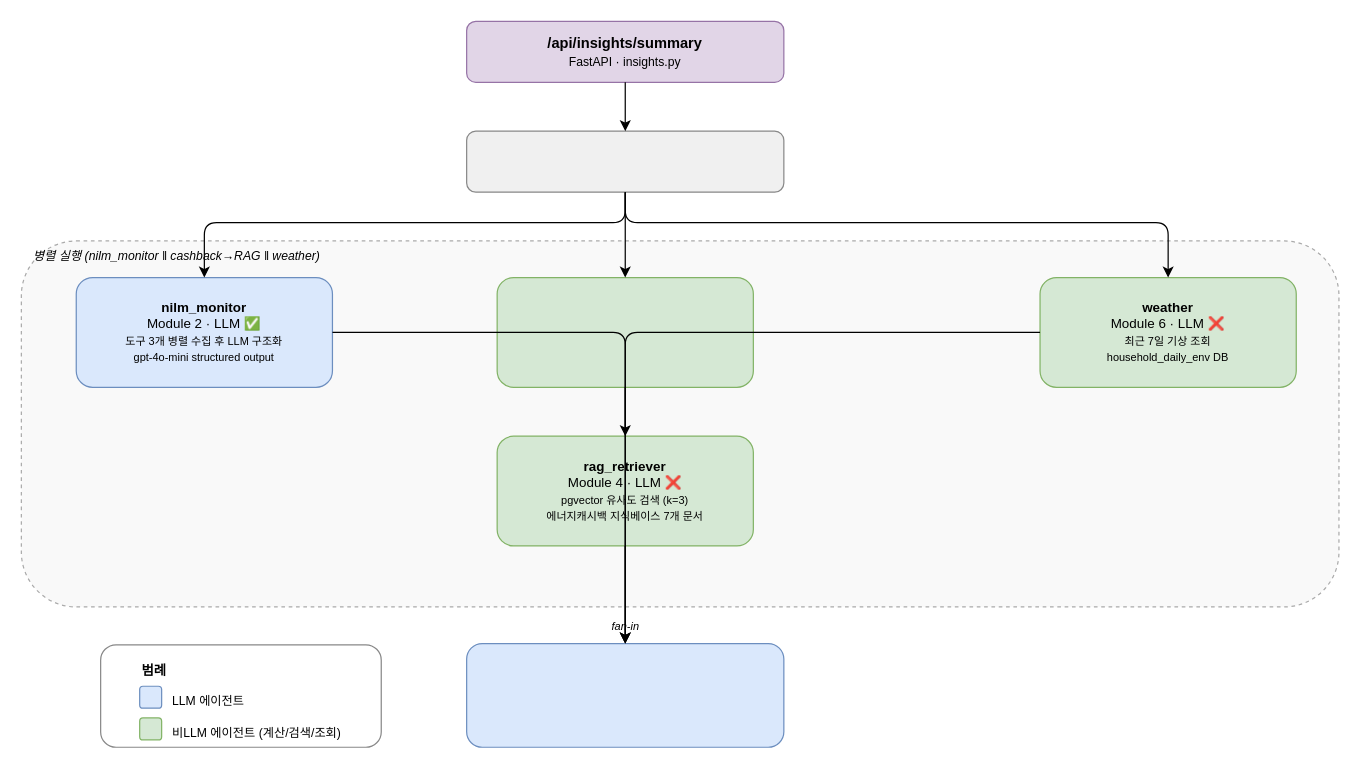
This 1360x769 diagram has some shape labels left out. The centre of each missing label's shape, as x and y in pixels:
cashback Module 3 · LLM ❌ 기준선·절감률·캐시백 산출 Python 계산 전용: the point at 624,331
report Module 5 · LLM ✅ 이상 진단 + 절감 권고 생성 gpt-4o-mini structured output: the point at 624,694
run_multi_agent() LangGraph StateGraph · supervisor.py: the point at 624,161
